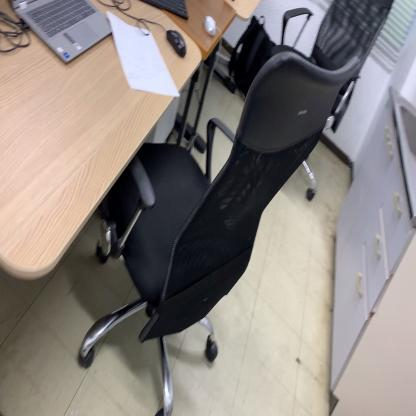chair: (78, 53, 360, 416), (277, 0, 396, 202)
